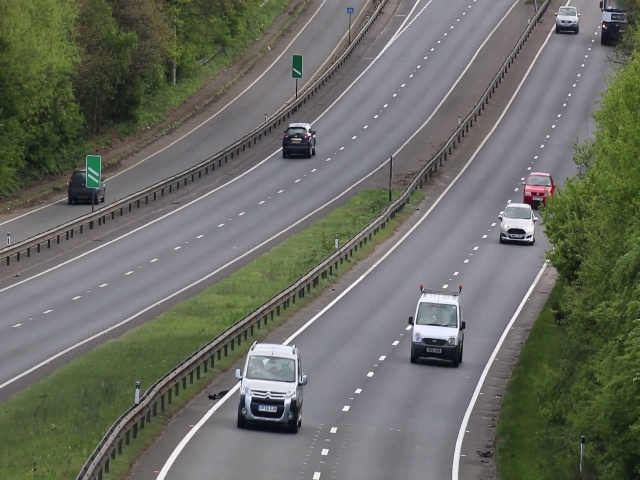car: (238, 353, 305, 429), (410, 295, 464, 368), (495, 202, 536, 245), (68, 168, 107, 204), (282, 123, 317, 159), (523, 171, 557, 206), (556, 5, 580, 35)
